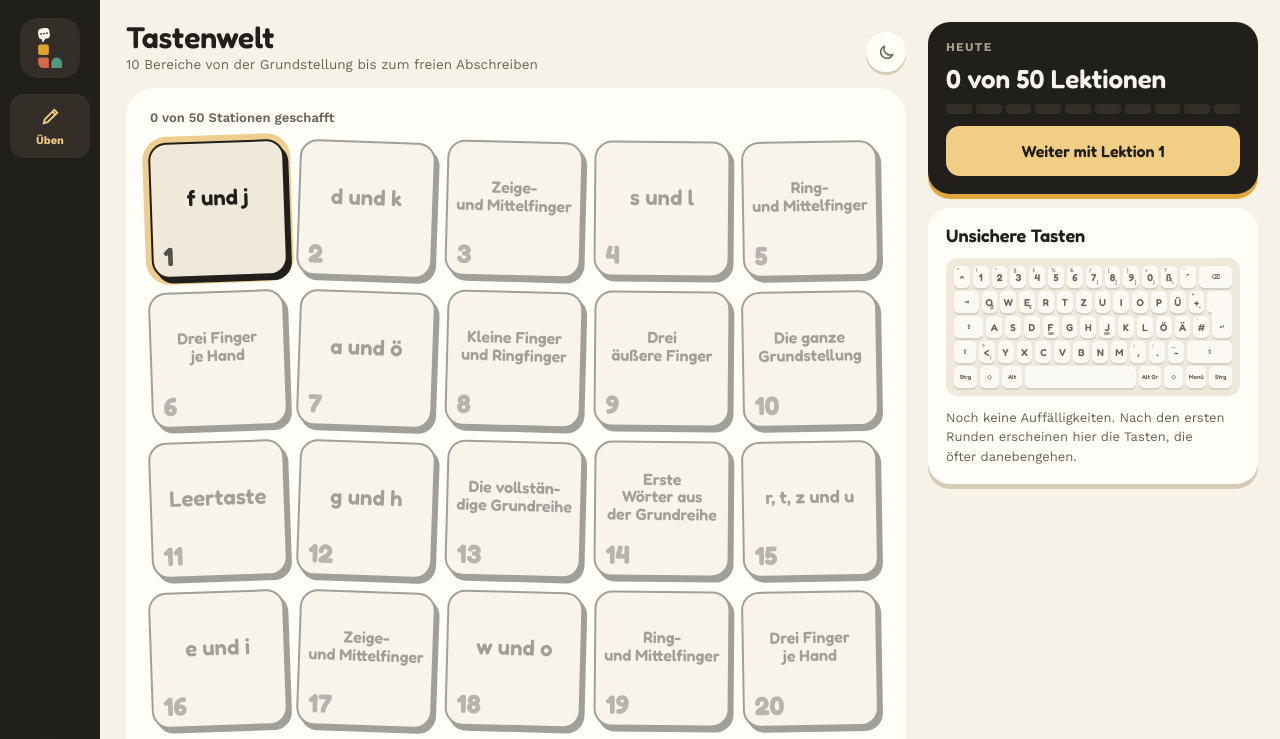
Scenario: Tastenwelt: Rundenschutz (C-001) › lässt eine noch nicht begonnene Übung ohne Rückfrage verlassen
Click the button "Weiter mit Lektion 1" at (1093, 151), box [946,126,1240,176]
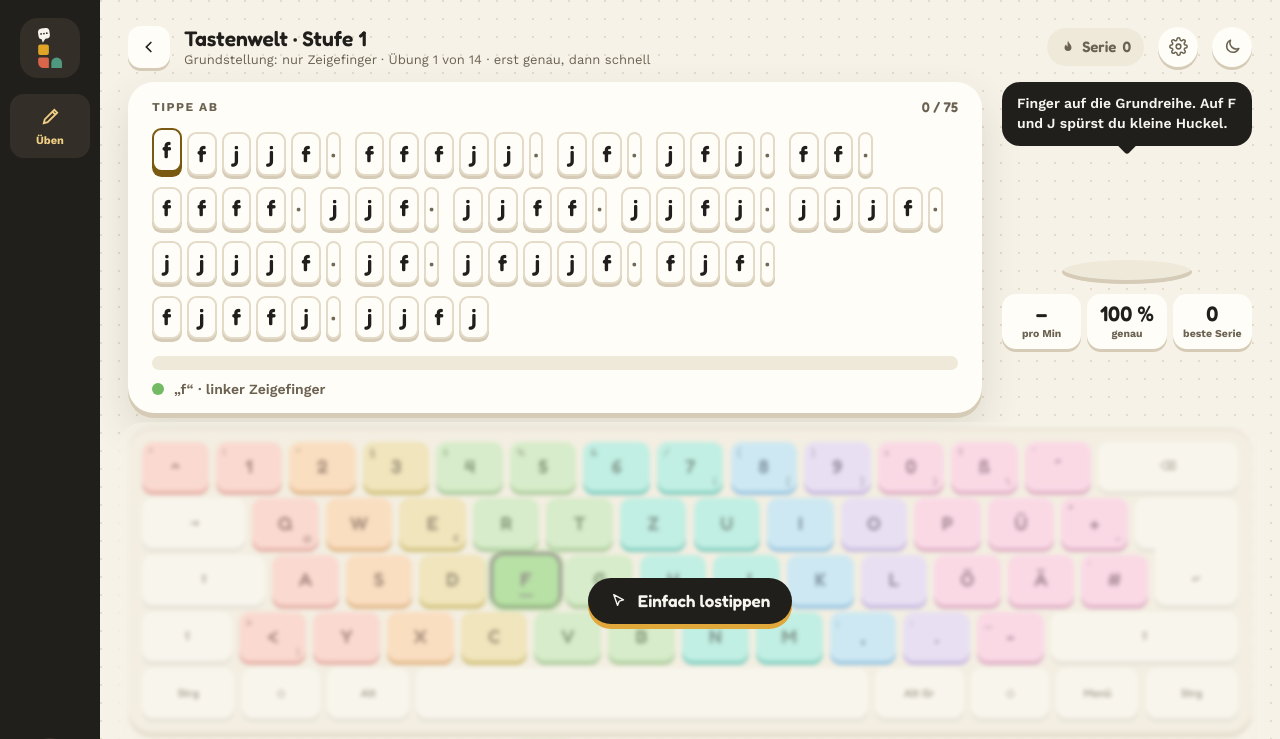
Click the button named "Zur Übersicht" at (149, 47), box [128,26,170,68]
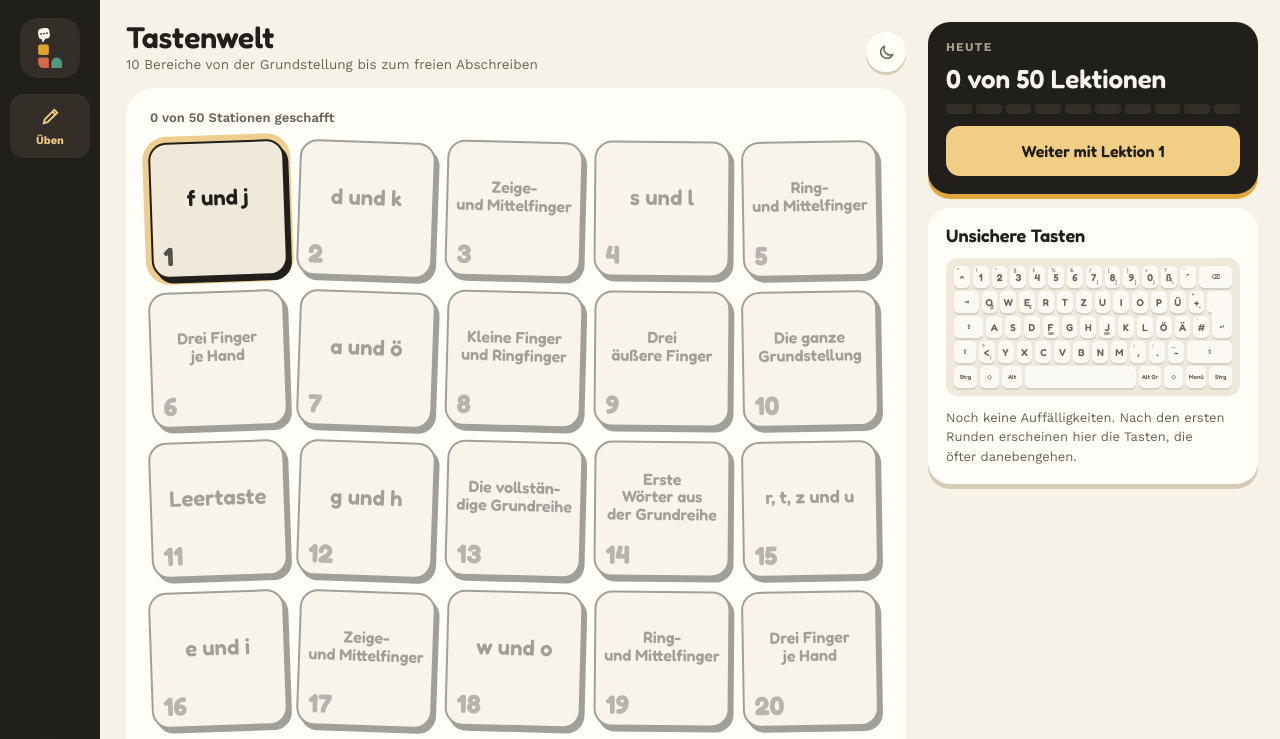
Result: the button "Weiter mit Lektion 1" is shown at [946,126,1240,176]
